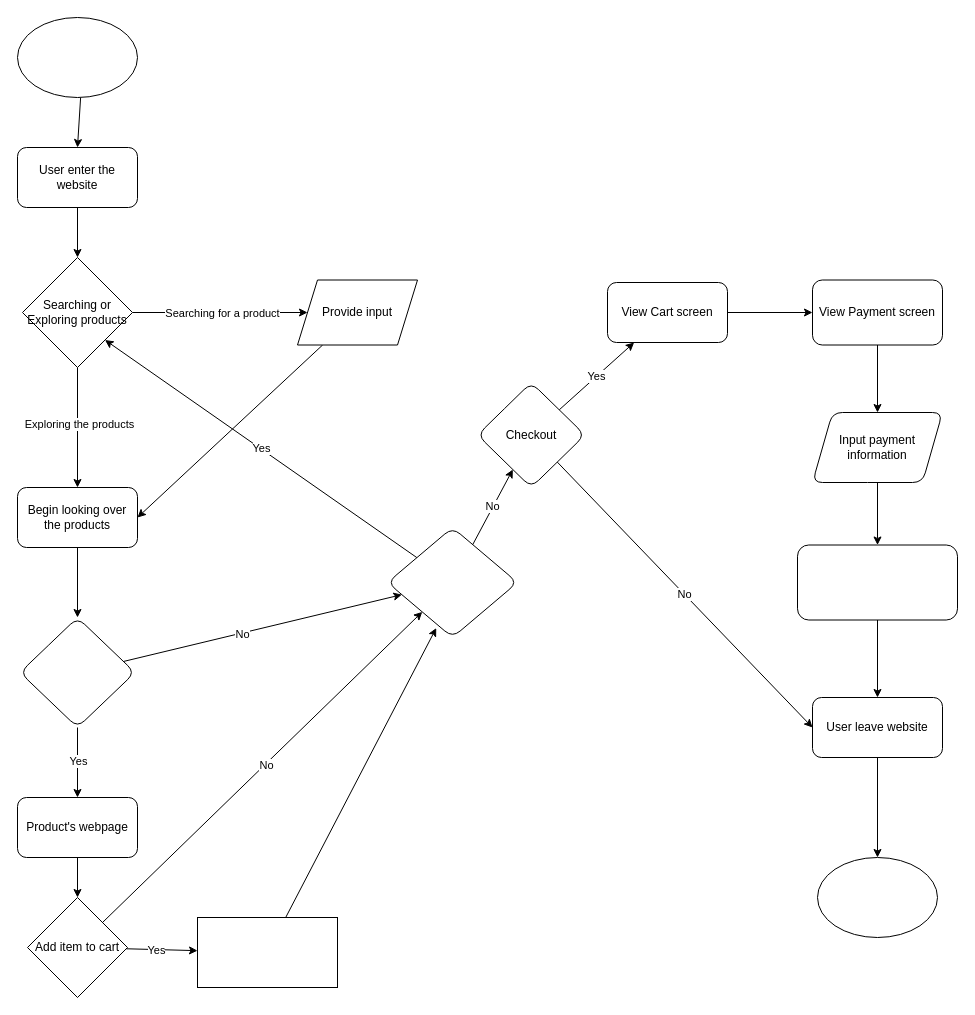
Image size: 975x1015. Some labels were removed from this diagram. The centre of each missing label's shape, as x and y in pixels:
"Continue shopping" belongs at (x=452, y=582).
"End" belongs at (x=877, y=897).
"Order confirmation screen and receive confirmation email" belongs at (x=877, y=582).
"Receive an added to cart confirmation" belongs at (x=267, y=952).
"Start" belongs at (x=77, y=57).
"Viewing a specific product" belongs at (x=77, y=672).
